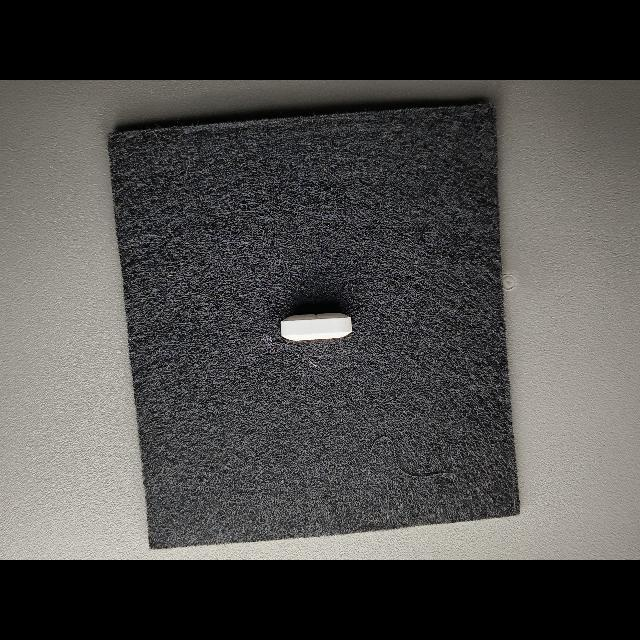Intact Pill: (281, 313, 352, 341)
